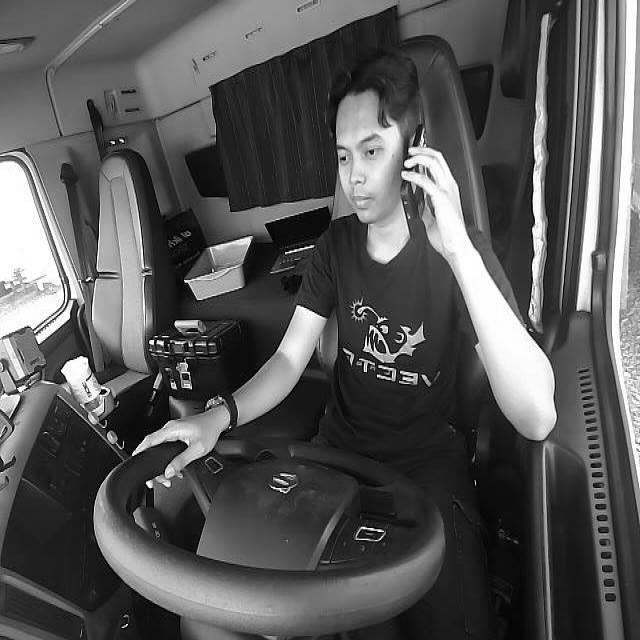phone: (399, 121, 433, 239)
